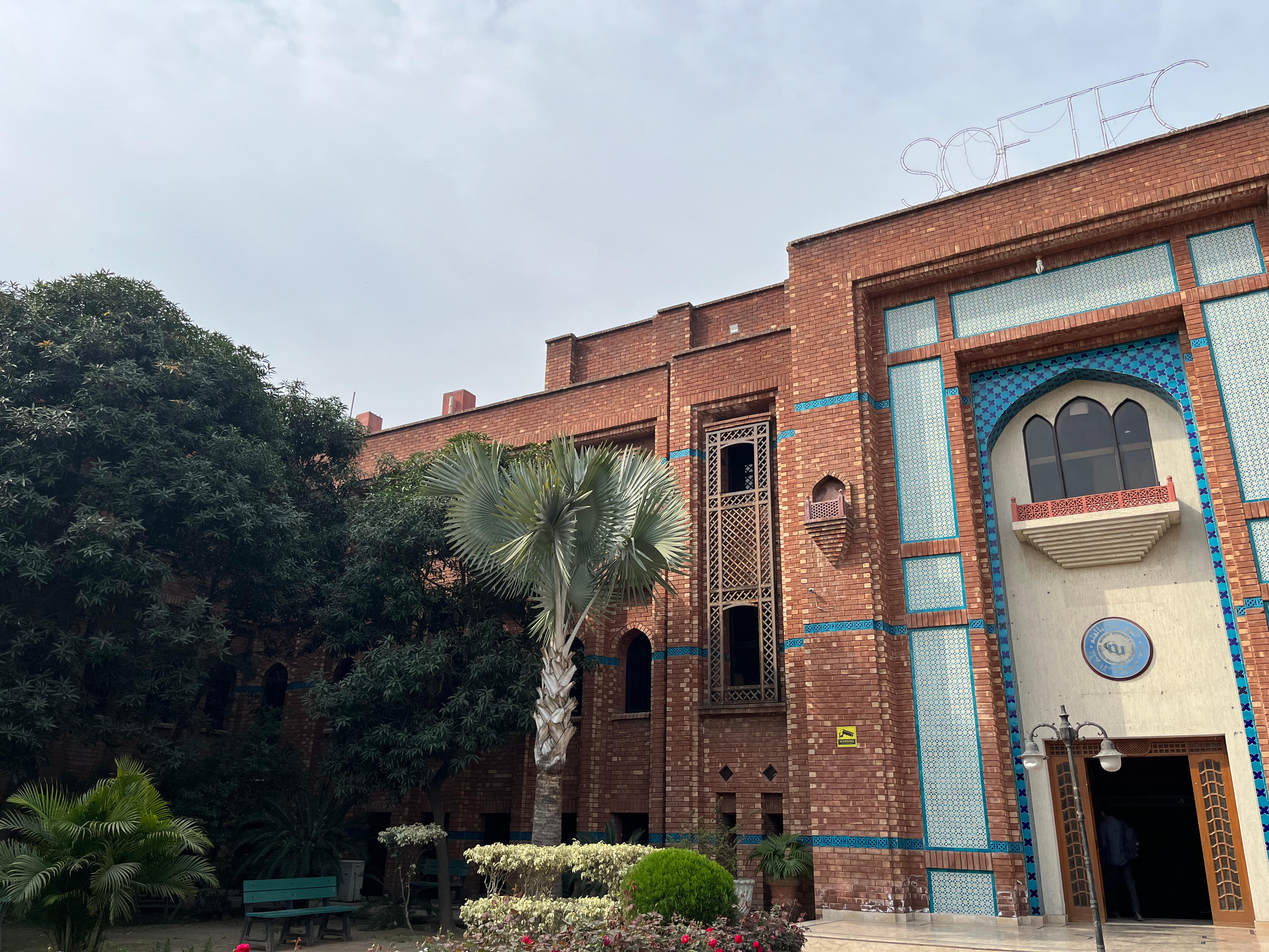Block C: (14, 116, 1269, 949)
